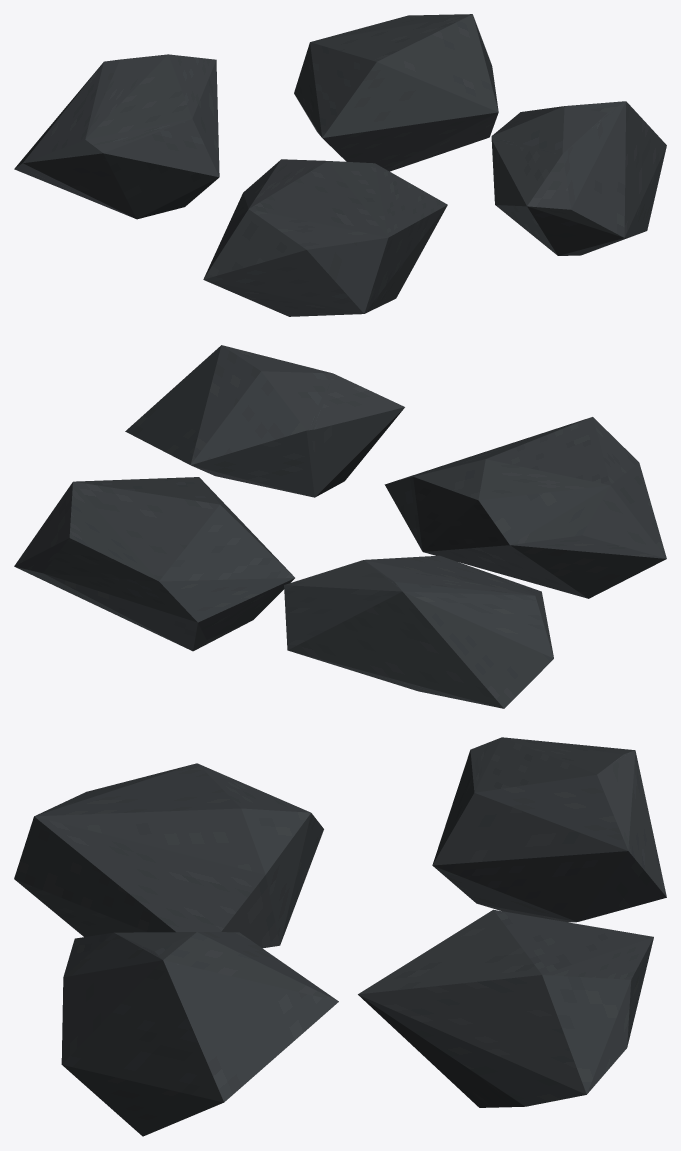
The model's file is shredded_rubber.glb.
3 renders of one model, top to bottom at view 1: azimuth 30°, elevation 25°; view 2: azimuth 150°, elevation 25°; view 3: azimuth 270°, elevation 25°, orthographic. The views are drawn at different scales.
Parts seen in each view (by area): view 1: block_material fragments (×4); view 2: block_material fragments (×4); view 3: block_material fragments (×4).
Boxes of the visible parts, x1,y1,x2,y2 form: block_material fragments (×4): (14, 14, 666, 316); block_material fragments (×4): (14, 345, 666, 708); block_material fragments (×4): (14, 737, 666, 1136).
Size of the model in its own units: 0.0321 by 0.00769 by 0.0267.
1 material, 1 textured.
